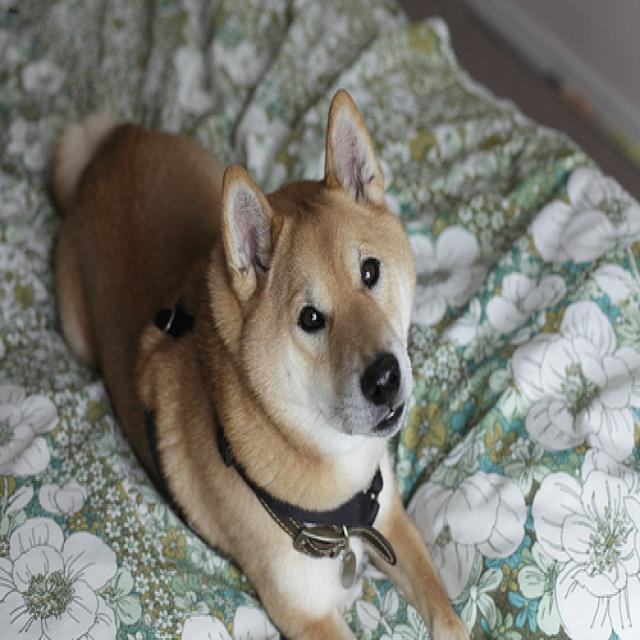dog-shiba_inu: (44, 86, 476, 636)
